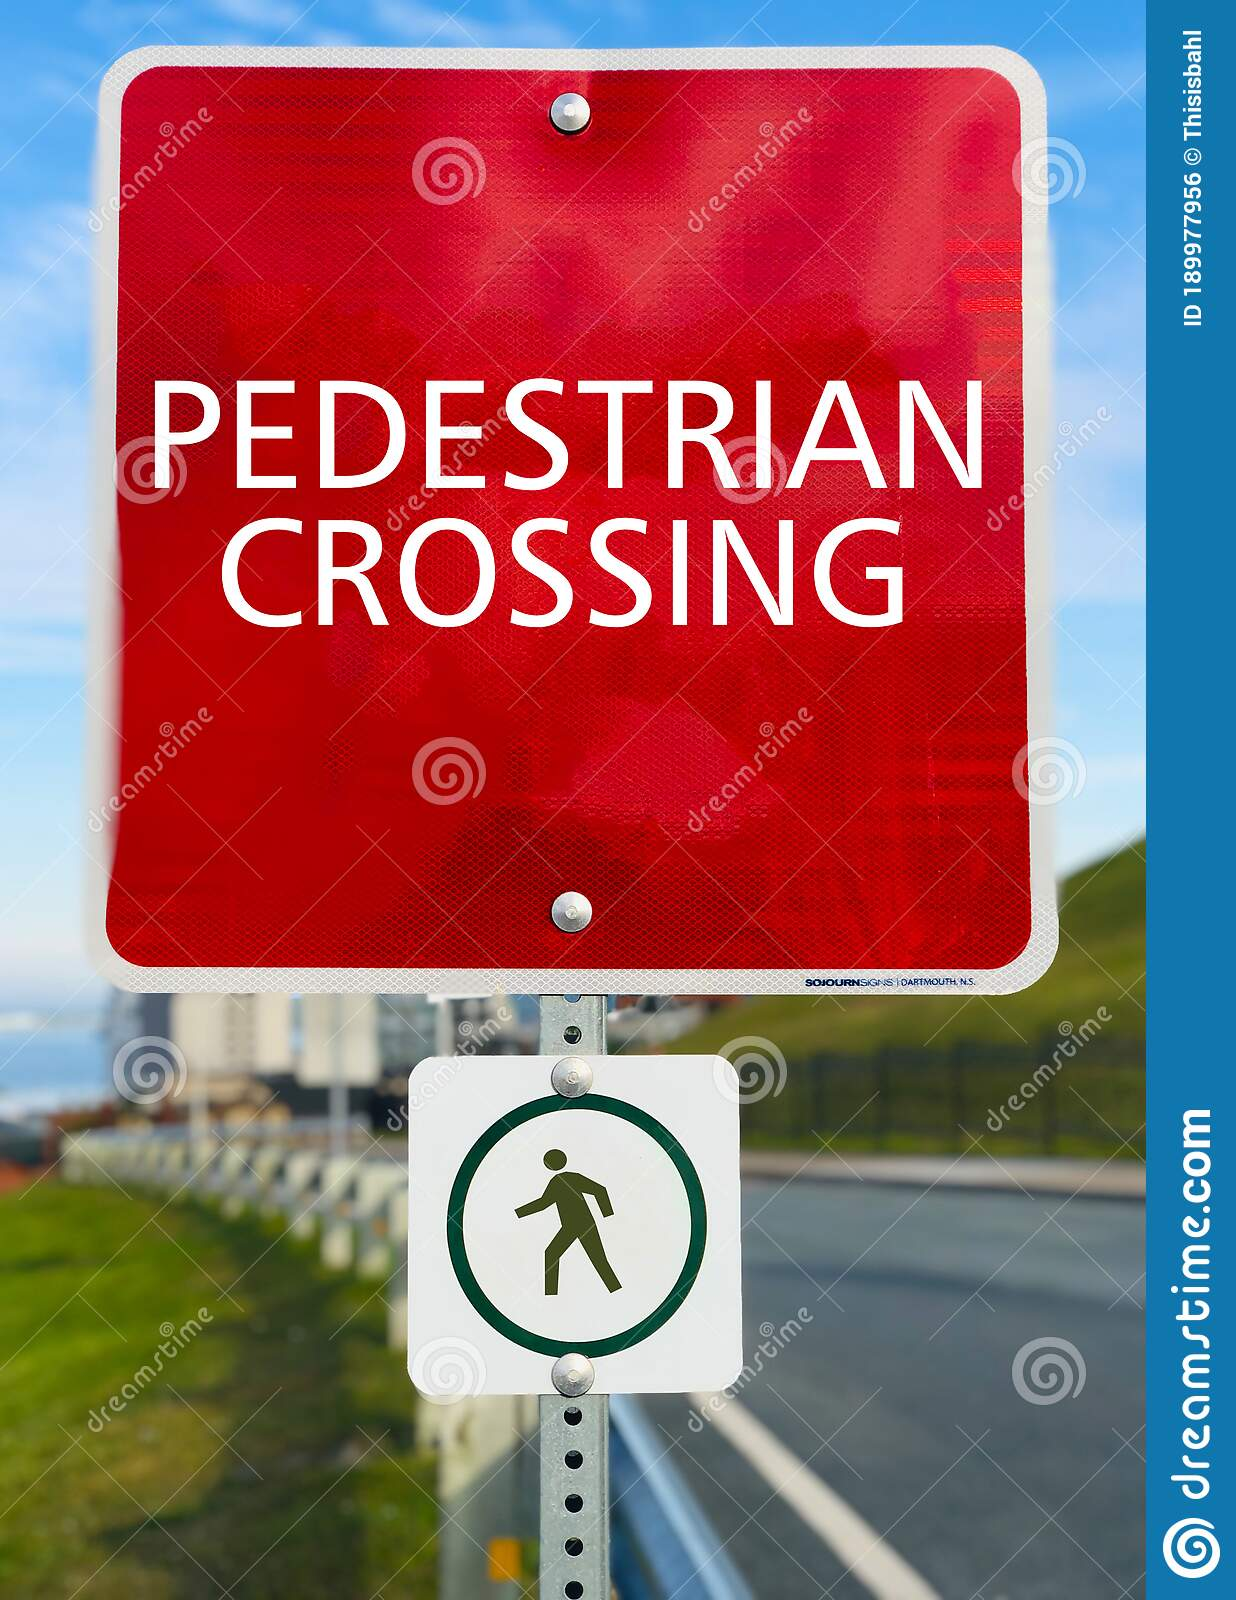pedestrian: (415, 1081, 736, 1382)
